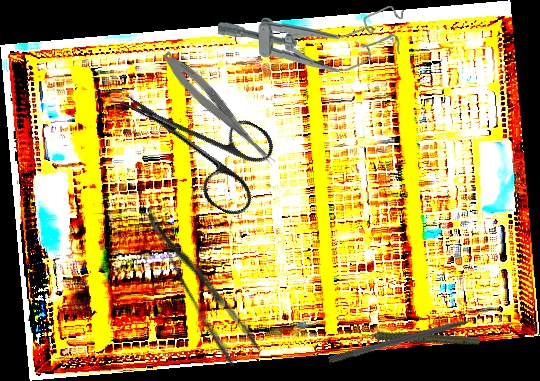Dressing Forceps: (142, 196, 262, 369)
Handpiece: (355, 302, 482, 370)
Iris Scissors: (97, 59, 286, 222)
Micro Scissor: (157, 47, 283, 170)
Pusher: (327, 312, 494, 365)
Speculum: (217, 5, 405, 74)
